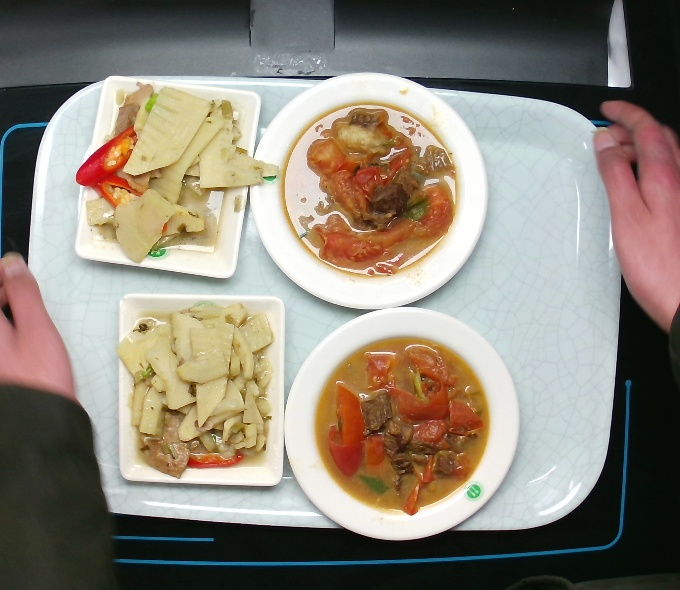wcq-DongSun: (111, 297, 282, 471), (74, 82, 245, 256)
wcq-FanQiwNiuRou: (308, 325, 501, 519), (272, 89, 465, 283)
